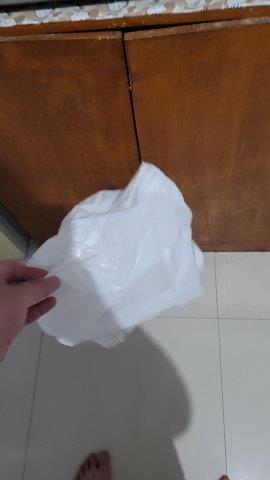plastik: (22, 161, 203, 348)
